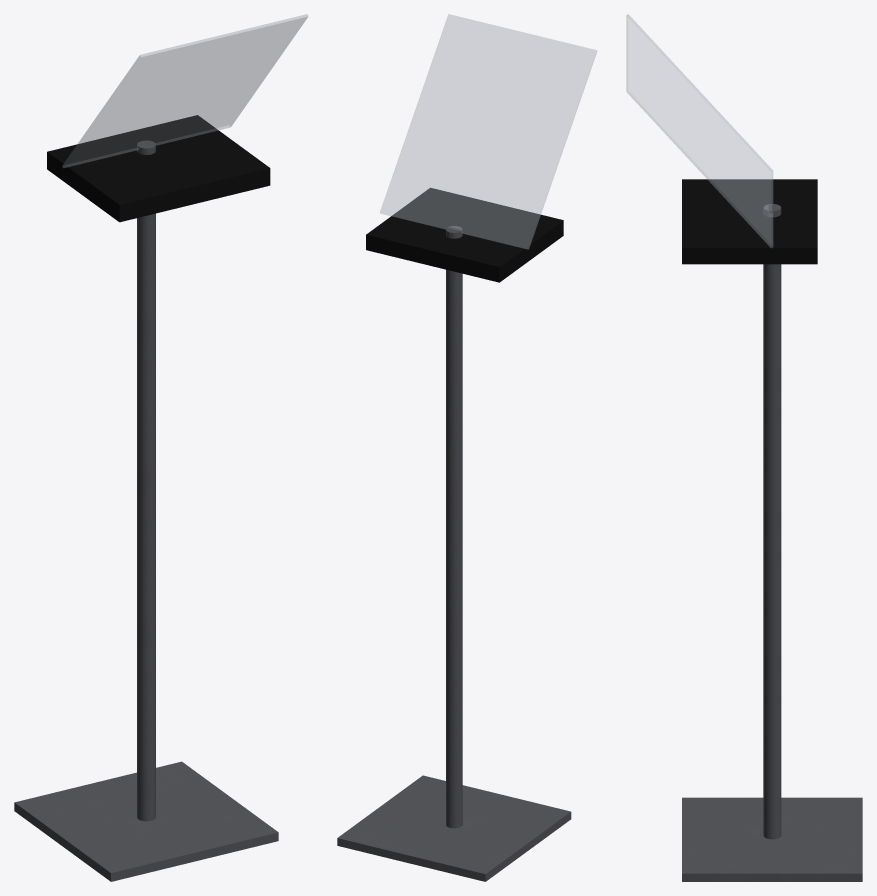
Rendered from prompter_glass.gltf.
3 renders of one model, left to right at view 1: azimuth 30°, elevation 25°; view 2: azimuth 150°, elevation 25°; view 3: azimuth 270°, elevation 25°, orthographic. The views are drawn at different scales.
Parts seen in each view (by area): view 1: prompter_glass; view 2: prompter_glass; view 3: prompter_glass.
Boxes of the visible parts, left/top/right/bottom form: prompter_glass: left=14, top=14, right=308, bottom=881; prompter_glass: left=337, top=14, right=597, bottom=881; prompter_glass: left=626, top=14, right=862, bottom=881.
Bounding box in the file's own units: 0.4 × 1.93 × 0.5237.
Materials: 3 (2 with a texture image).
